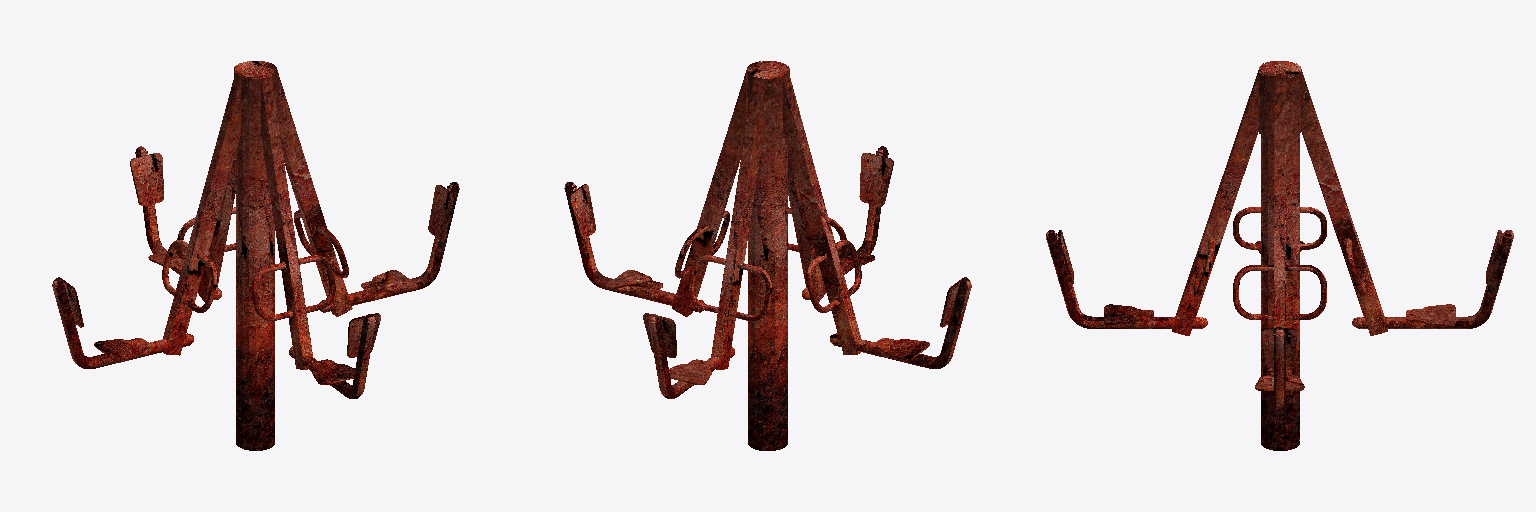
3 renders of one model, left to right at view 1: azimuth 30°, elevation 25°; view 2: azimuth 150°, elevation 25°; view 3: azimuth 270°, elevation 25°, orthographic.
Parts seen in each view (by area): view 1: Line02; view 2: Line02; view 3: Line02.
Part boxes in pixels (x1,y1,x2,y2): Line02: (52, 61, 459, 450); Line02: (564, 61, 971, 450); Line02: (1046, 61, 1513, 450).
Size of the model in its own units: 1879 by 1650 by 1879.
Materials: 1 (1 with a texture image).